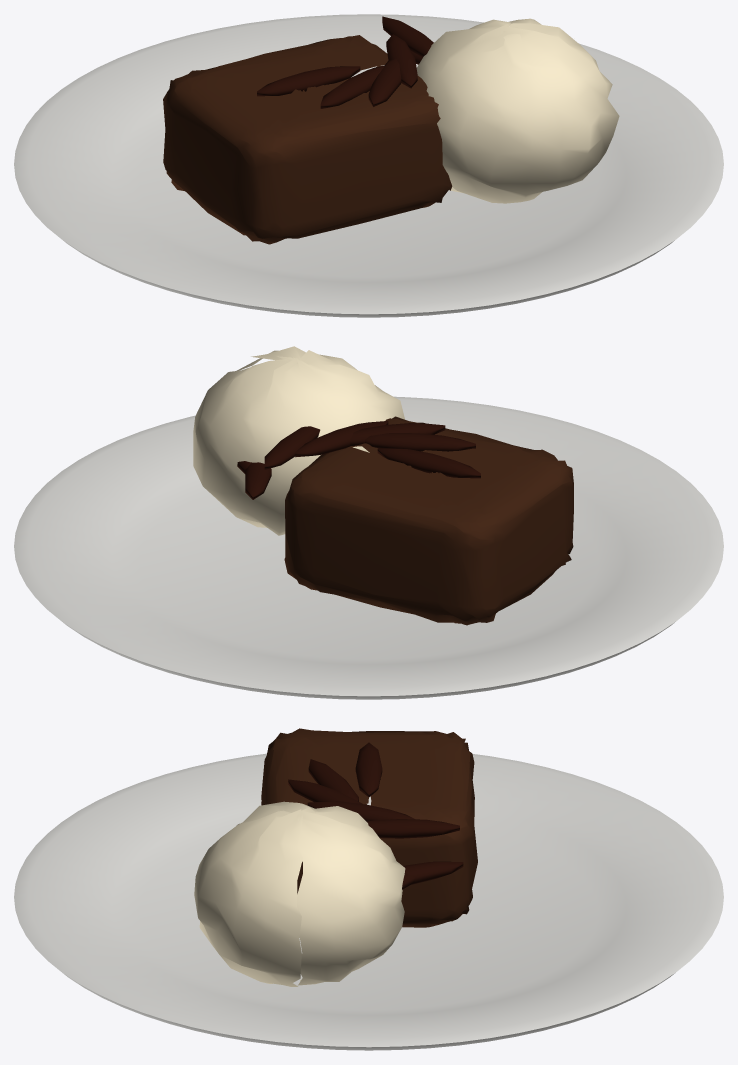
Rendered from sobremesa-sorvete.glb.
3 views of the same model, one above another, from view 1: azimuth 30°, elevation 25°; view 2: azimuth 150°, elevation 25°; view 3: azimuth 270°, elevation 25° (orthographic).
Visible parts, largest first — view 1: sobremesa-sorvete; view 2: sobremesa-sorvete; view 3: sobremesa-sorvete.
Boxes of the visible parts, x1=… form: sobremesa-sorvete: x1=14, y1=14, x2=723, y2=317; sobremesa-sorvete: x1=14, y1=346, x2=723, y2=699; sobremesa-sorvete: x1=14, y1=728, x2=723, y2=1050.
Size of the model in its own units: 0.204 by 0.061 by 0.204.
